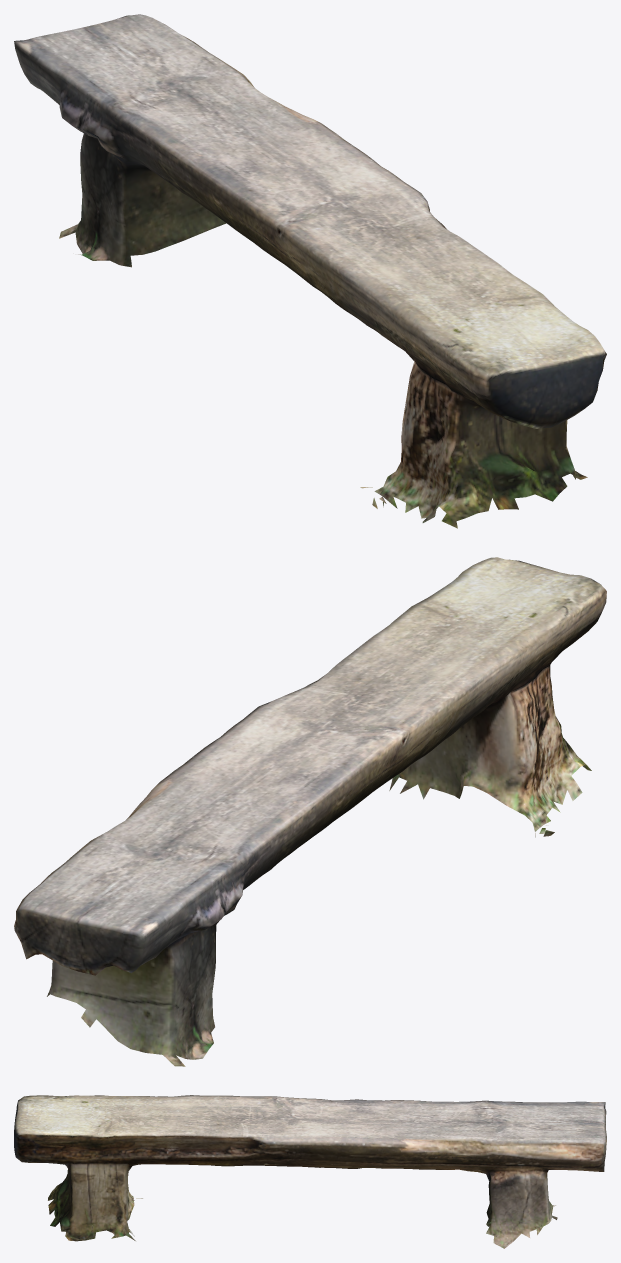
File: solo_bank.fbx
3 renders of one model, top to bottom at view 1: azimuth 30°, elevation 25°; view 2: azimuth 150°, elevation 25°; view 3: azimuth 270°, elevation 25°, orthographic. The views are drawn at different scales.
Parts seen in each view (by area): view 1: Object_3; view 2: Object_3; view 3: Object_3.
Part boxes in pixels (x1,y1,x2,y2): Object_3: [14, 14, 606, 528]; Object_3: [14, 557, 606, 1066]; Object_3: [14, 1095, 606, 1248].
Size of the model in its own units: 489 by 442 by 2004.
Materials: 1 (1 with a texture image).
